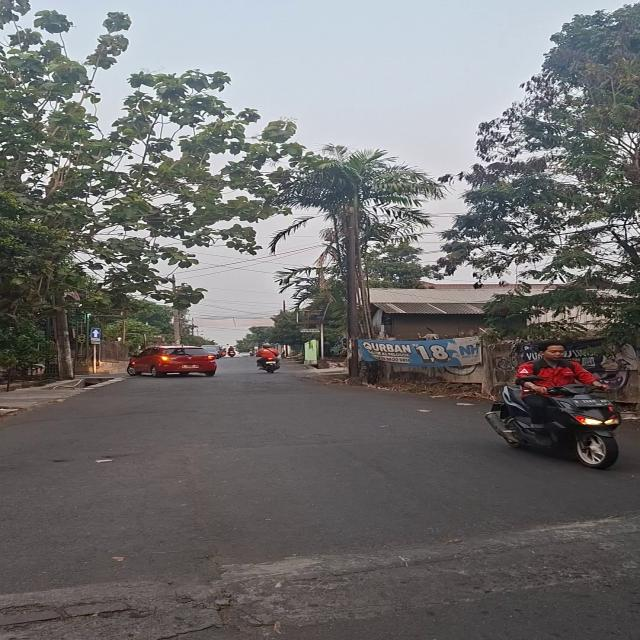WithHelmet: (255, 343, 281, 370), (227, 346, 237, 355), (219, 348, 227, 355)
WithoutHelmet: (489, 339, 625, 471)
